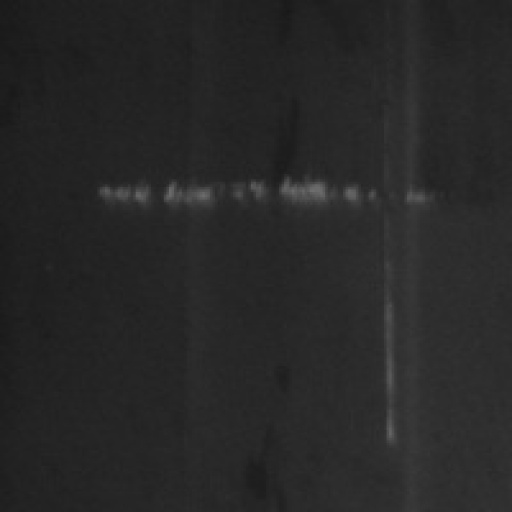scratches: (82, 169, 436, 221), (376, 216, 426, 462)
